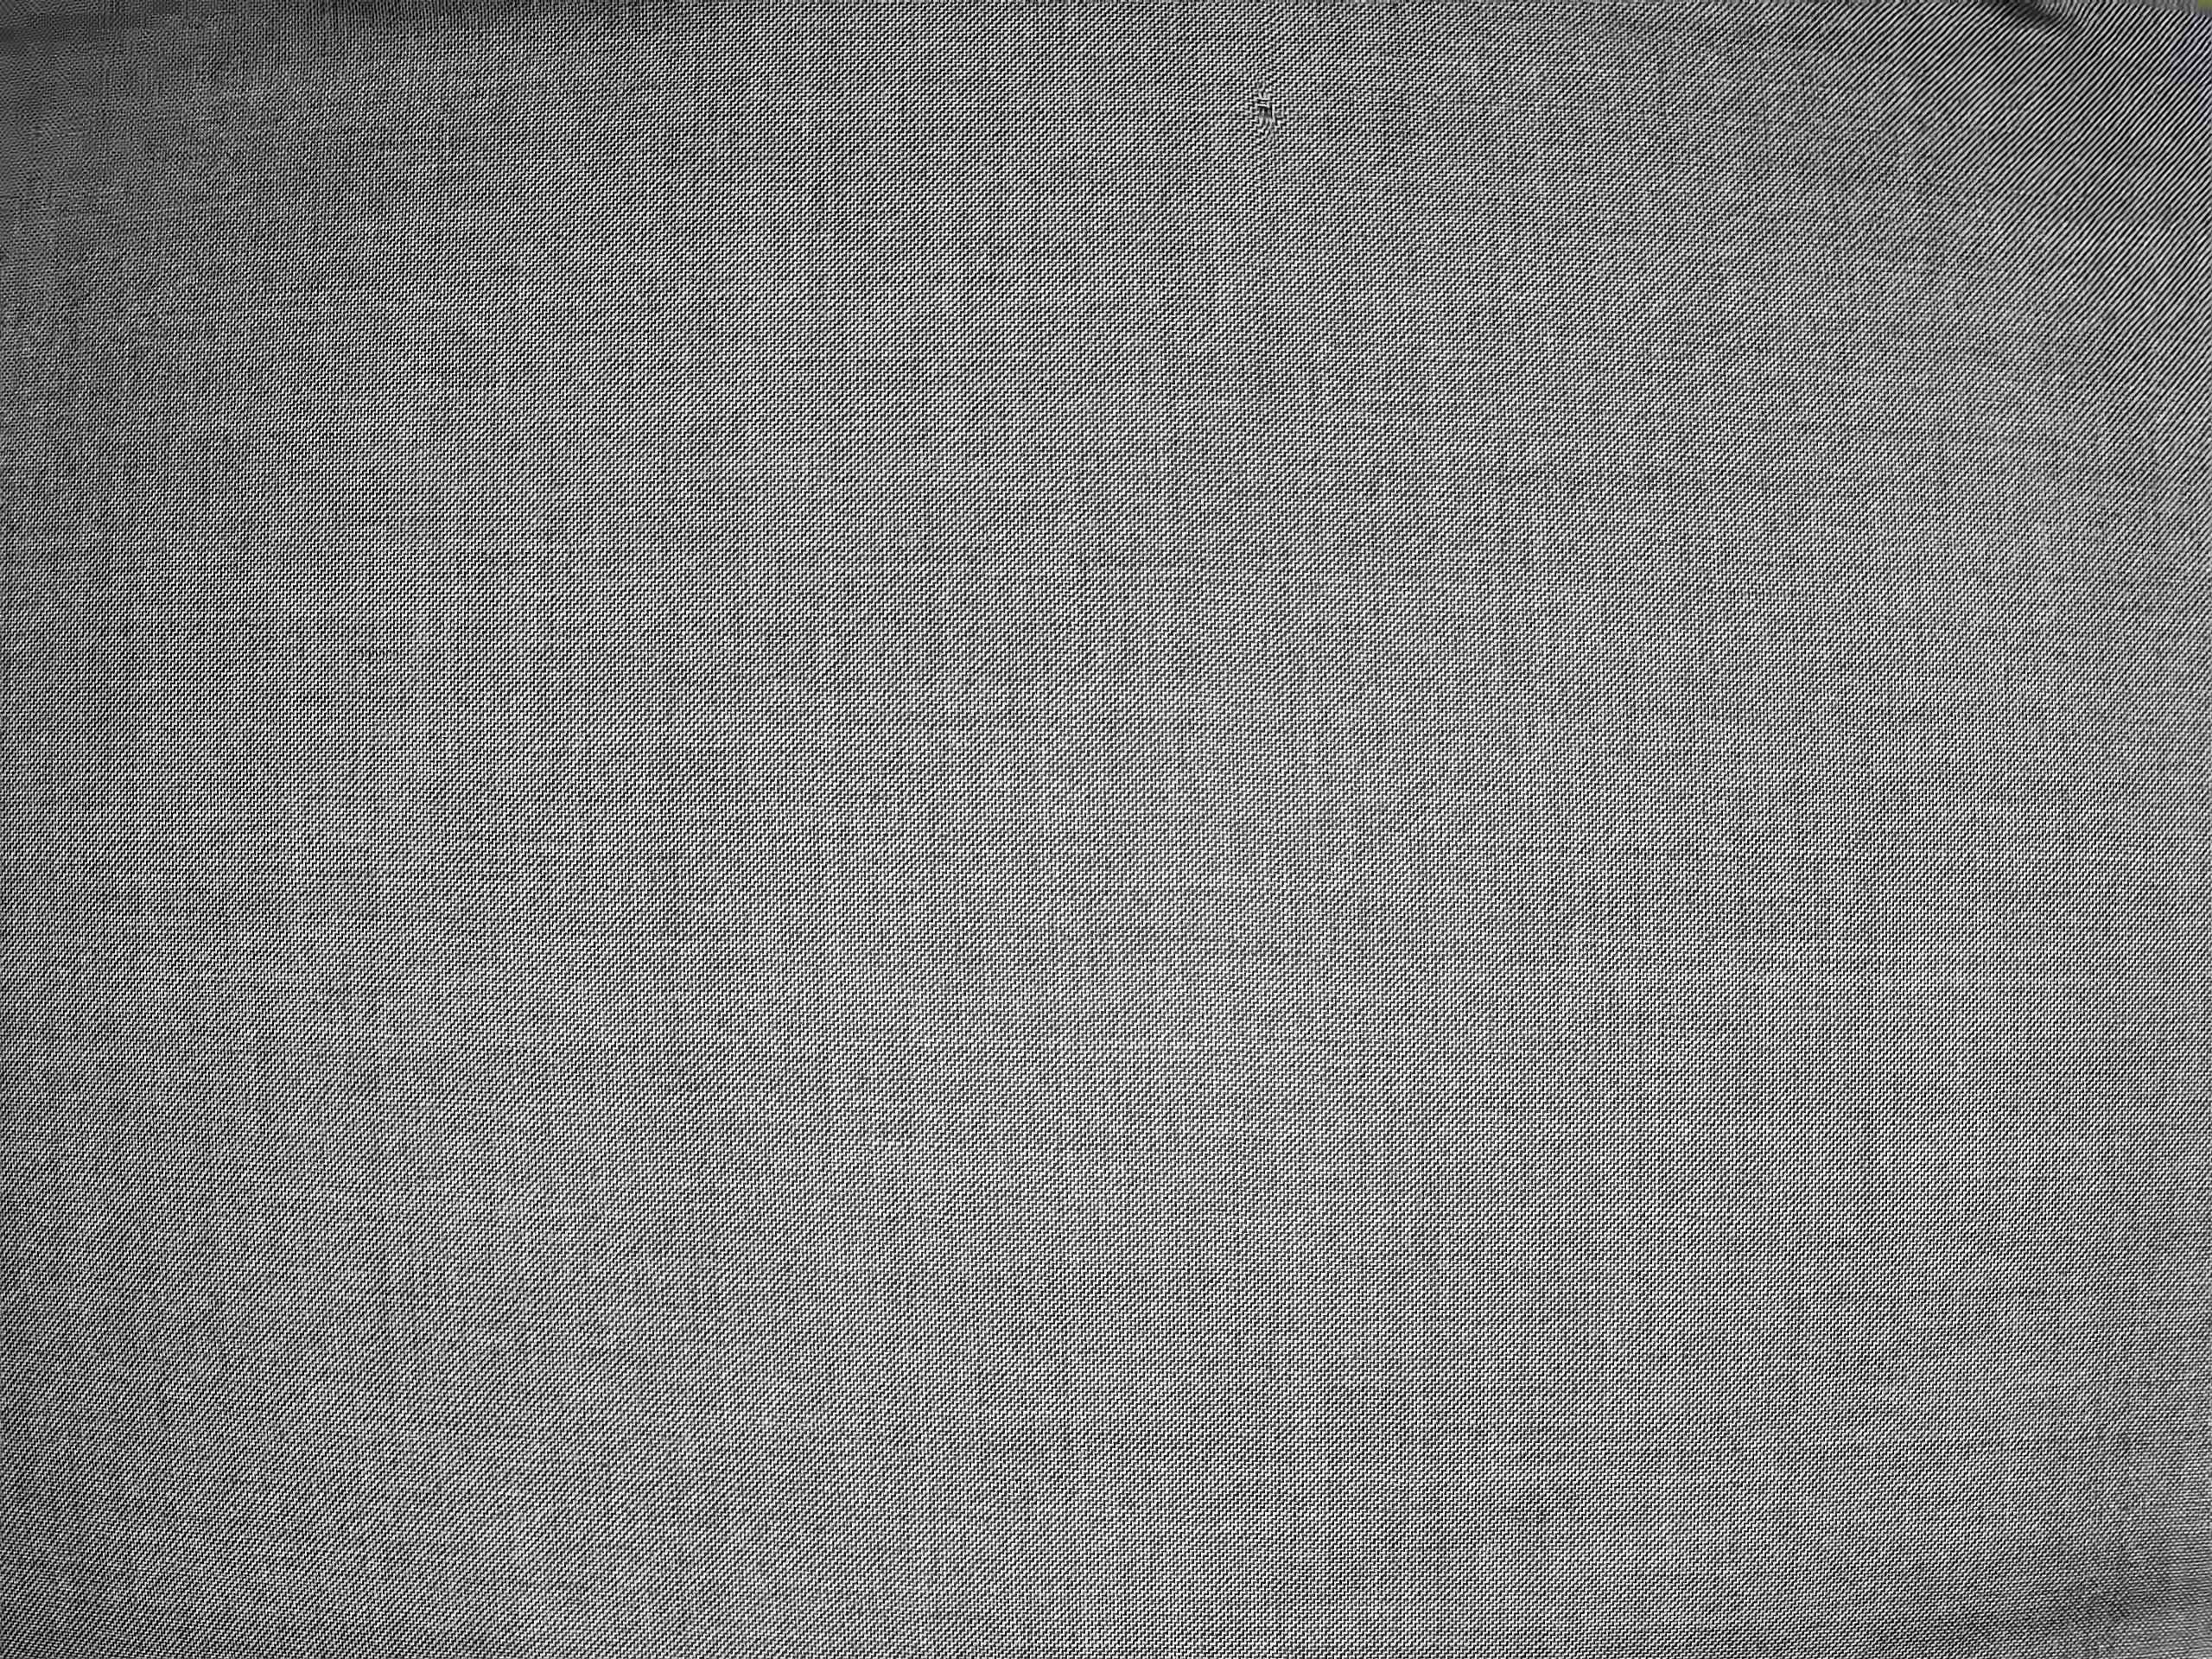brushed-hole: (1235, 82, 1294, 141)
